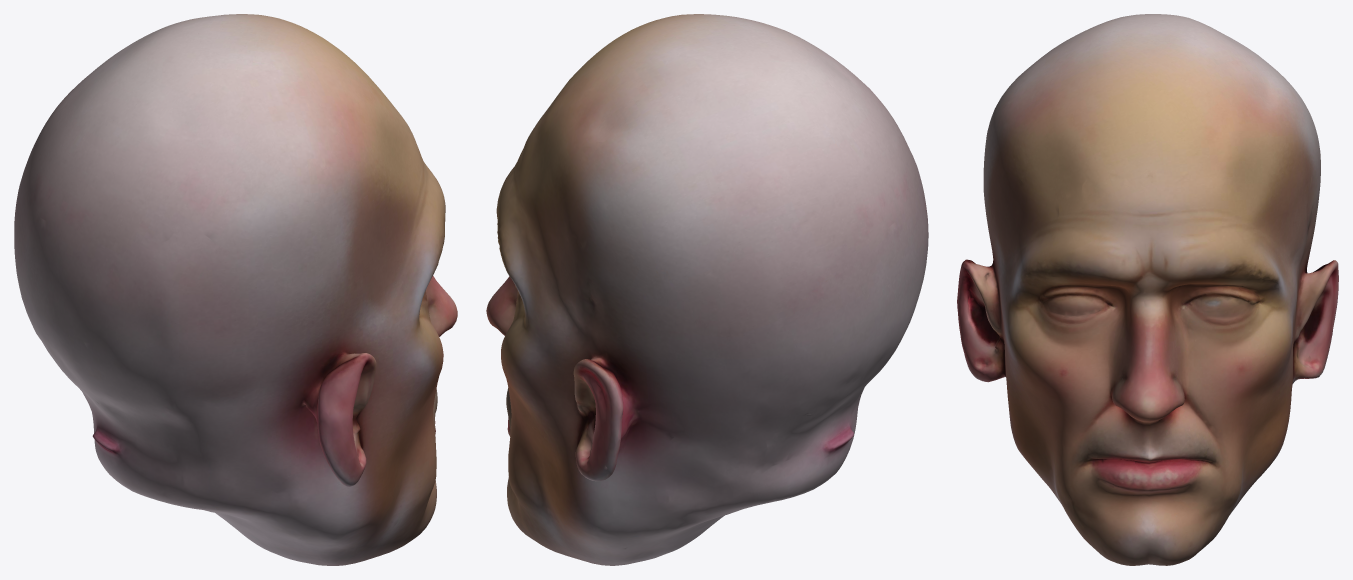
Rendered from asset.glb.
The picture shows the model from 3 angles, left to right: view 1: azimuth 30°, elevation 25°; view 2: azimuth 150°, elevation 25°; view 3: azimuth 270°, elevation 25°; orthographic projection. The views are drawn at different scales.
Visible parts, largest first — view 1: world; view 2: world; view 3: world.
Part boxes in pixels (<box>): world: <box>14,14,457,565</box>; world: <box>486,14,928,565</box>; world: <box>957,14,1338,565</box>.
Bounding box in the file's own units: 0.8039 × 0.9989 × 0.7393.
Materials: 1 (1 with a texture image).
